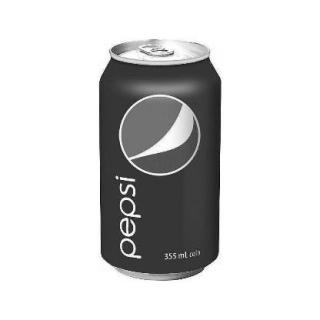alumunium_can: (100, 41, 222, 281)
